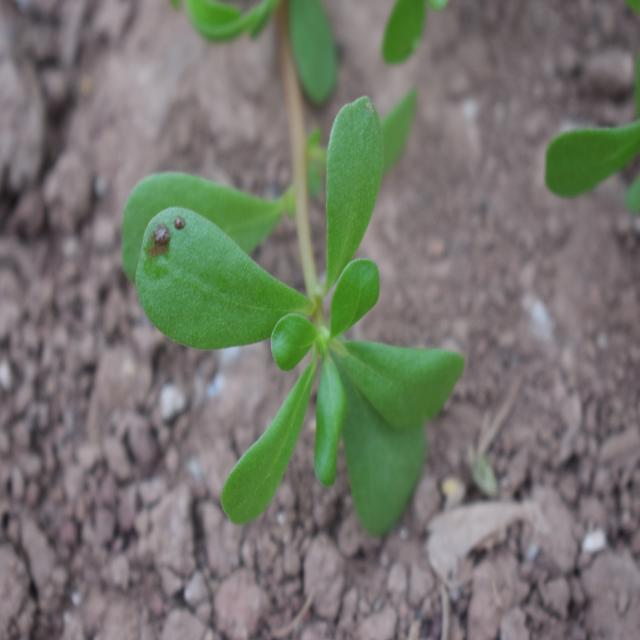purslane: (110, 58, 476, 530)
